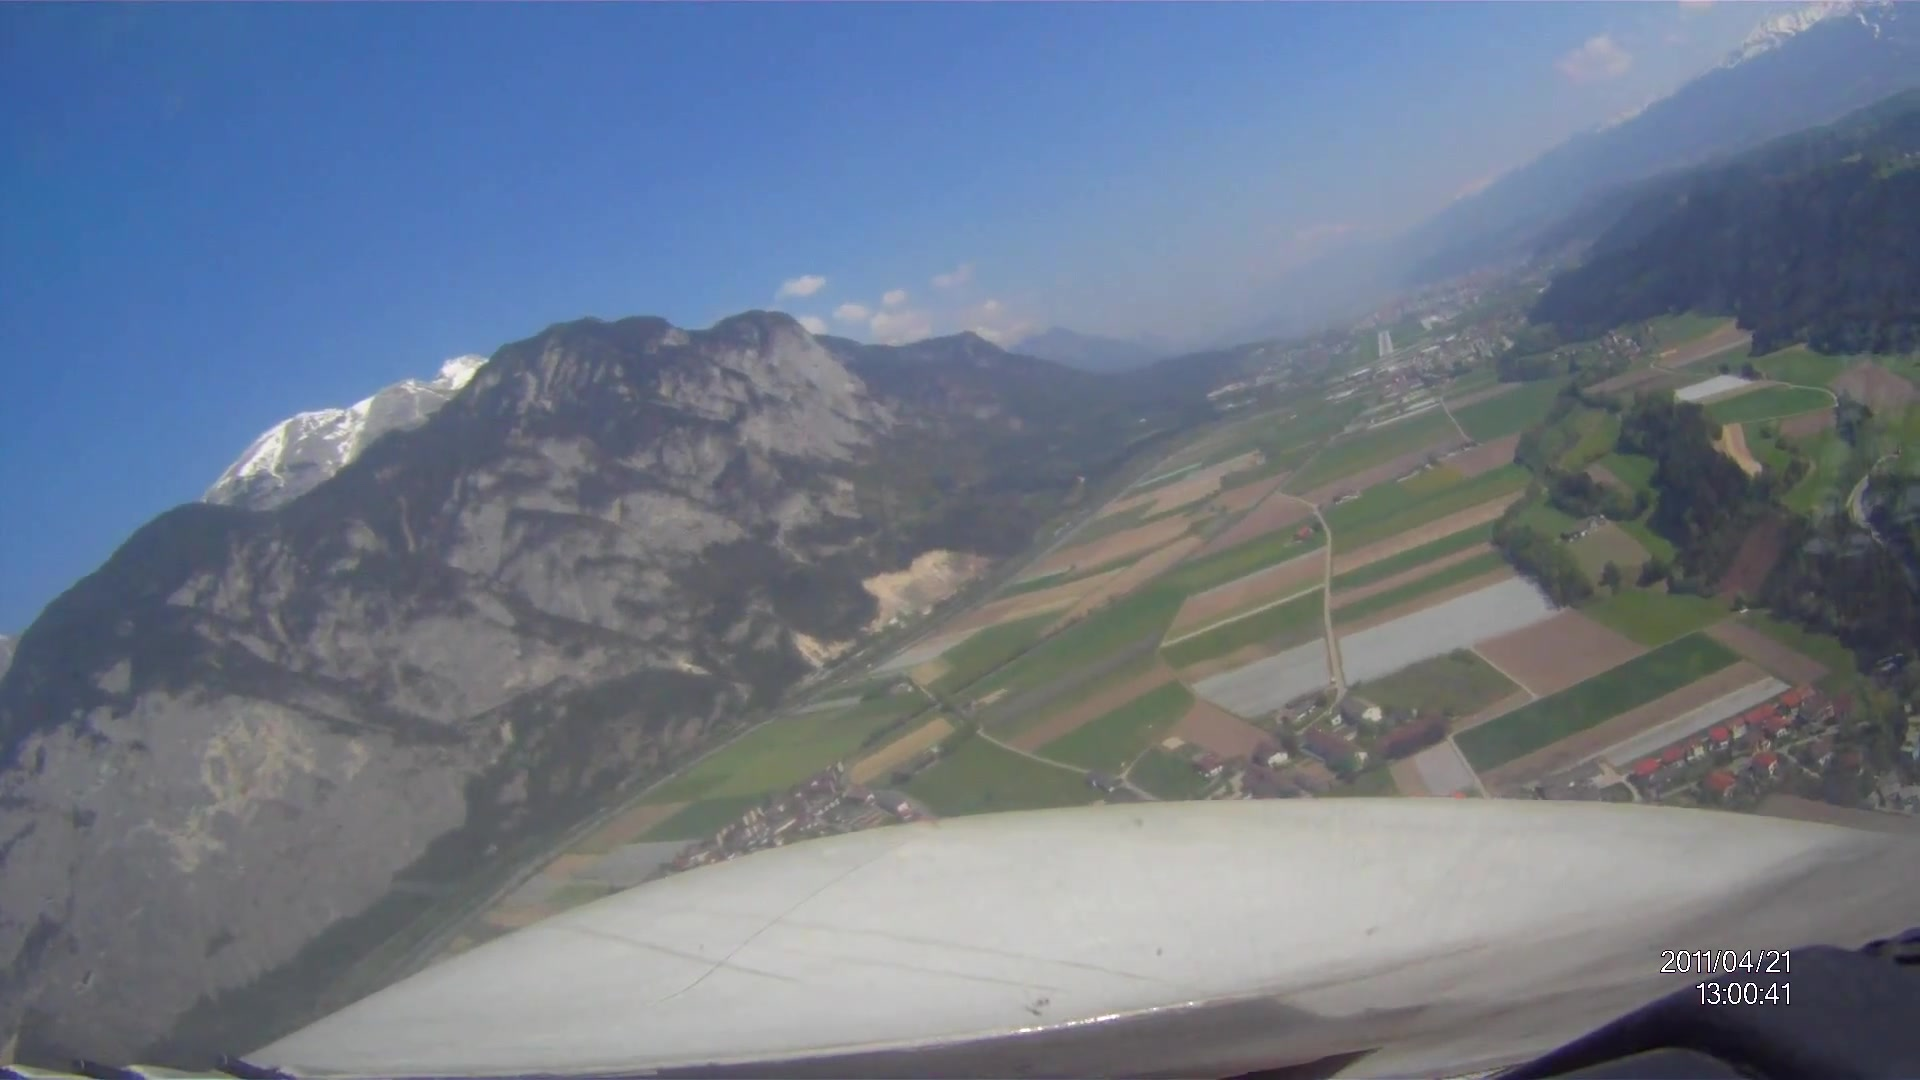runway: (1375, 328, 1395, 357)
